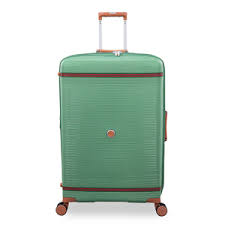suitcase: (52, 10, 171, 218)
